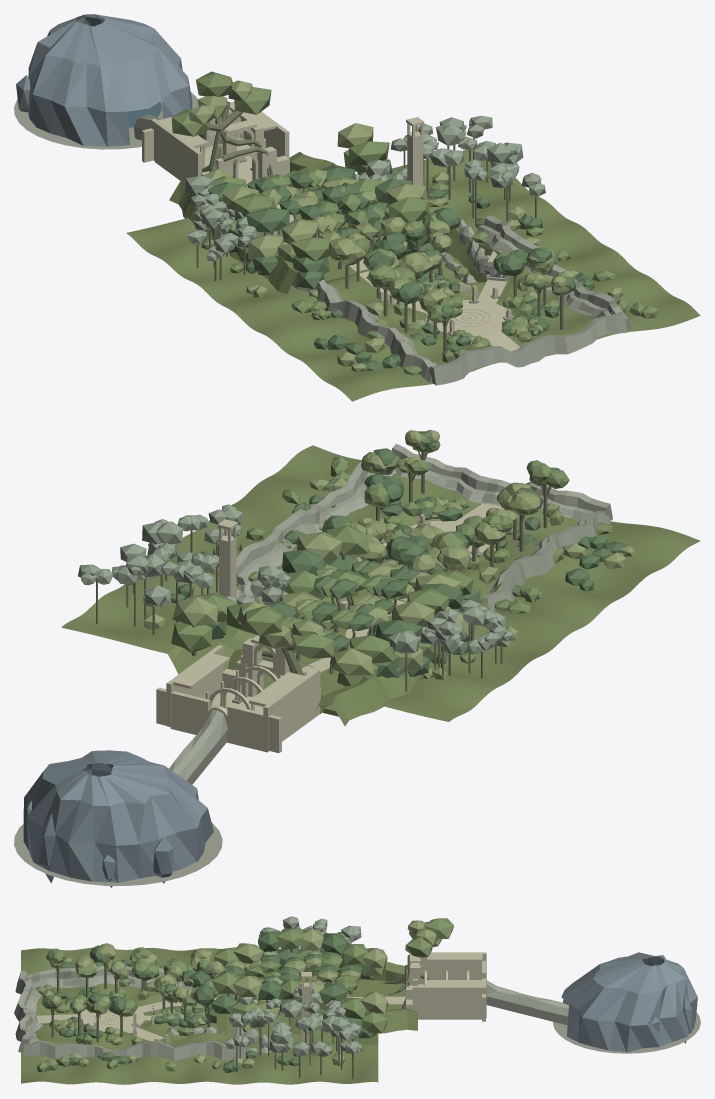
File: world-blockout.glb
3 renders of one model, top to bottom at view 1: azimuth 30°, elevation 25°; view 2: azimuth 150°, elevation 25°; view 3: azimuth 270°, elevation 25°, orthographic. The views are drawn at different scales.
Visible parts, largest first — view 1: Moss_earth, Cavern_slate, Canopy_1, Canopy_0, Canopy_2, Stone_shade, Limestone, Distant_forest, Trunks; view 2: Moss_earth, Cavern_slate, Canopy_1, Canopy_2, Stone_shade, Limestone, Canopy_0, Distant_forest, Trunks; view 3: Moss_earth, Cavern_slate, Canopy_1, Stone_shade, Canopy_0, Canopy_2, Limestone, Distant_forest, Trunks.
Part boxes in pixels (x1,y1,x2,y2): Moss_earth: (126, 149, 700, 401); Cavern_slate: (16, 14, 192, 146); Canopy_1: (171, 71, 658, 375); Canopy_0: (207, 159, 619, 371); Canopy_2: (189, 80, 623, 372); Stone_shade: (14, 92, 631, 385); Limestone: (142, 102, 519, 351); Distant_forest: (184, 115, 545, 260); Trunks: (196, 101, 563, 351); Moss_earth: (61, 445, 700, 725); Cavern_slate: (23, 750, 213, 887); Canopy_1: (171, 432, 612, 686); Canopy_2: (144, 430, 634, 681); Stone_shade: (14, 443, 612, 885); Limestone: (156, 503, 504, 753); Canopy_0: (170, 431, 626, 677); Distant_forest: (78, 504, 513, 654); Trunks: (96, 451, 551, 697); Moss_earth: (21, 947, 417, 1084); Cavern_slate: (561, 952, 697, 1052); Canopy_1: (36, 918, 453, 1072); Stone_shade: (14, 966, 700, 1060); Canopy_0: (41, 930, 377, 1072); Canopy_2: (43, 920, 441, 1068); Limestone: (37, 952, 486, 1044); Distant_forest: (225, 916, 363, 1057); Trunks: (50, 948, 433, 1079).
Size of what is drawn, in the model's own units: 120 by 46.95 by 260.
